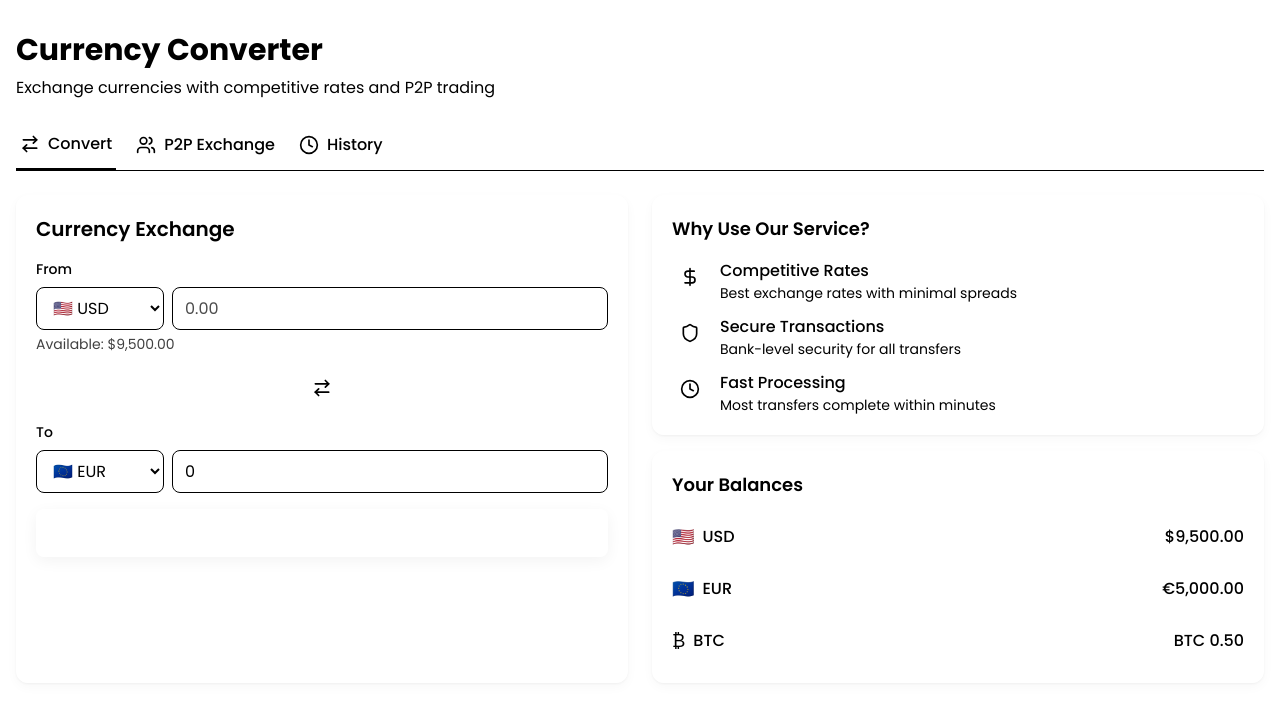
CurrencyConverterPage › empty state for P2P trades history
// Navigate to History tab
Click the button "History": coordinates (341, 151) x1=295 y1=132 x2=387 y2=170
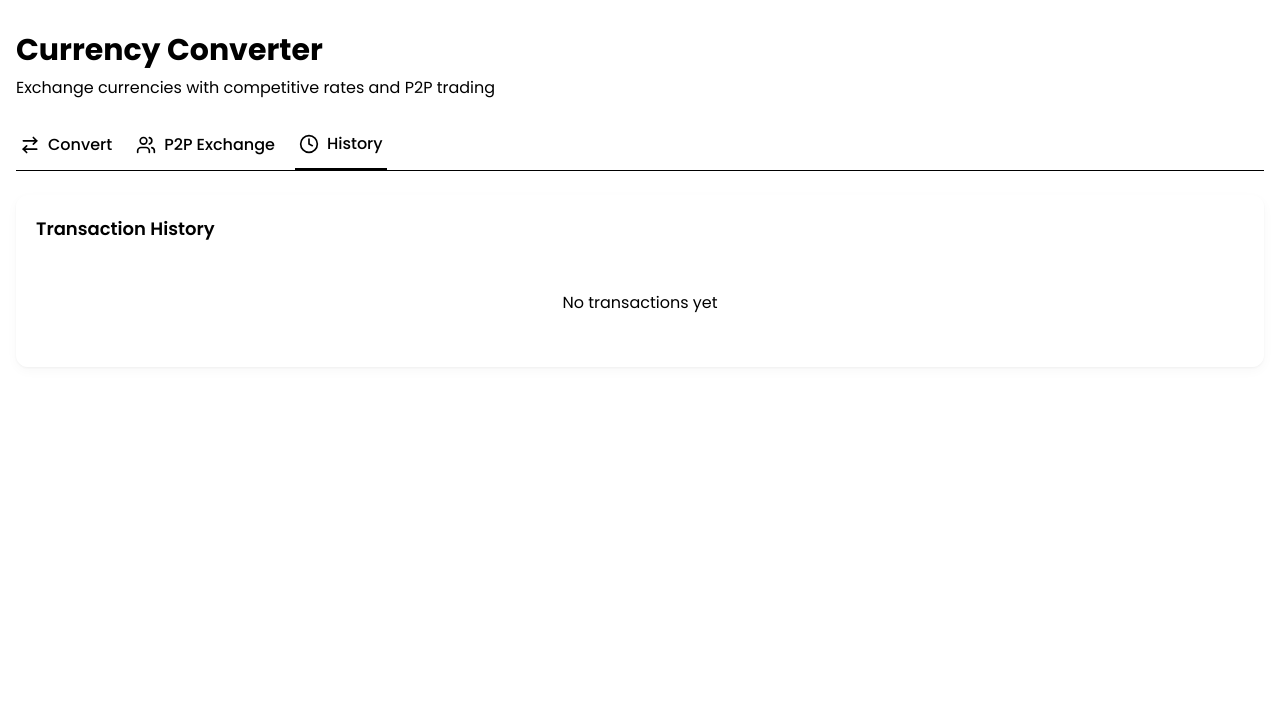
Expected: the text "No transactions yet" is shown, x1=562 y1=291 x2=718 y2=314
